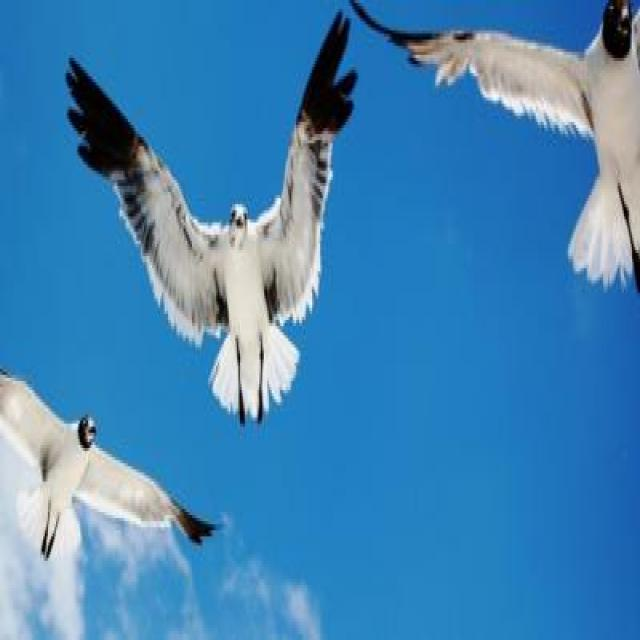birds: (58, 0, 368, 441), (333, 0, 640, 308), (0, 348, 234, 593)
